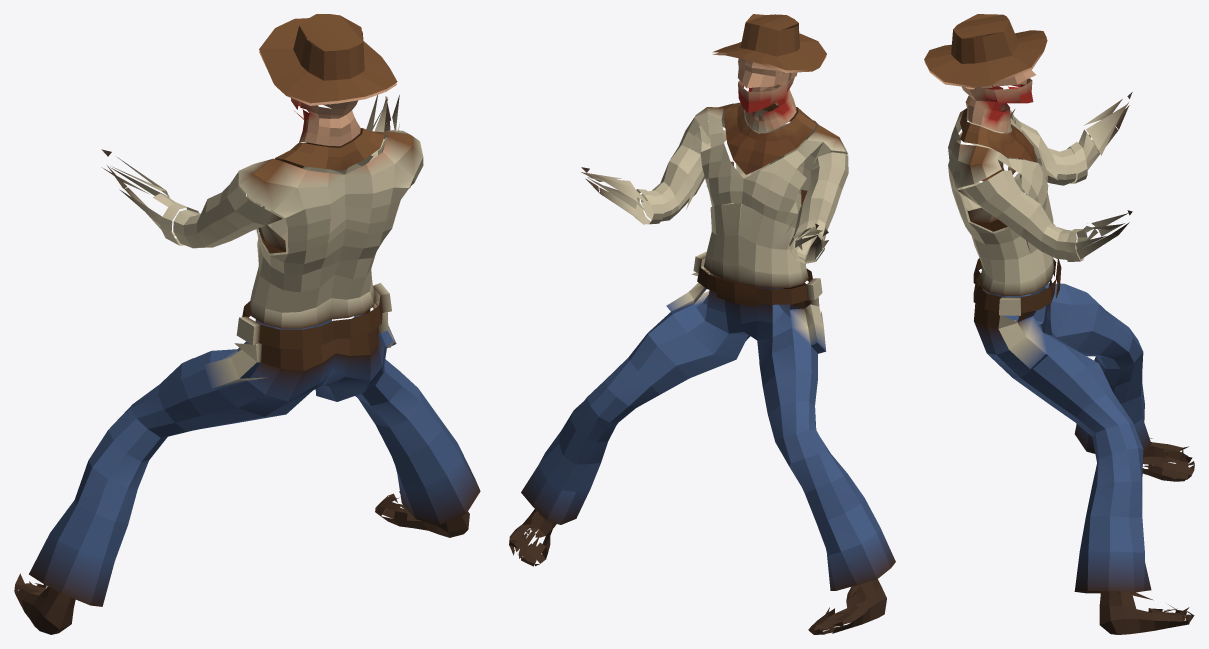
File: man_0_ride.fbx
3 views of the same model, side by side, from view 1: azimuth 30°, elevation 25°; view 2: azimuth 150°, elevation 25°; view 3: azimuth 270°, elevation 25° (orthographic). The views are drawn at different scales.
Parts seen in each view (by area): view 1: cowboy; view 2: cowboy; view 3: cowboy.
Part boxes in pixels (x1,y1,x2,y2): cowboy: (14, 14, 480, 634); cowboy: (509, 14, 895, 634); cowboy: (924, 14, 1194, 634).
Size of the model in its own units: 0.6436 by 0.882 by 0.4066.
